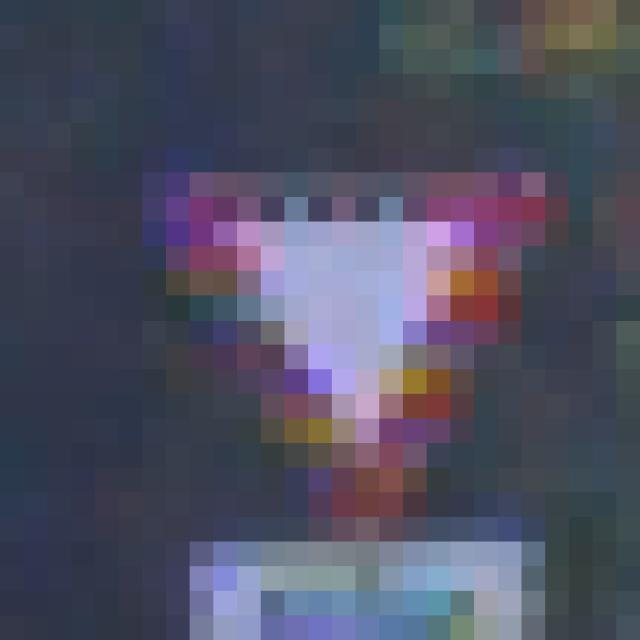Give Way: (143, 124, 523, 518)
